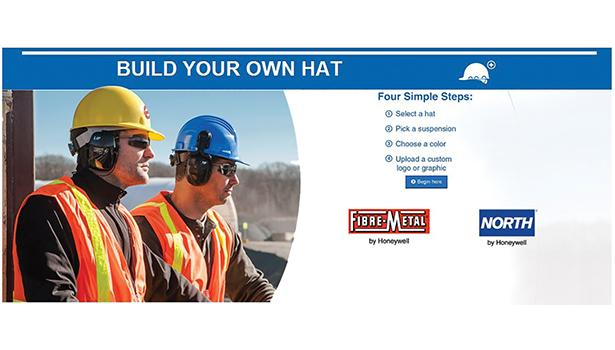helmet: (69, 88, 167, 143), (171, 114, 251, 168)
